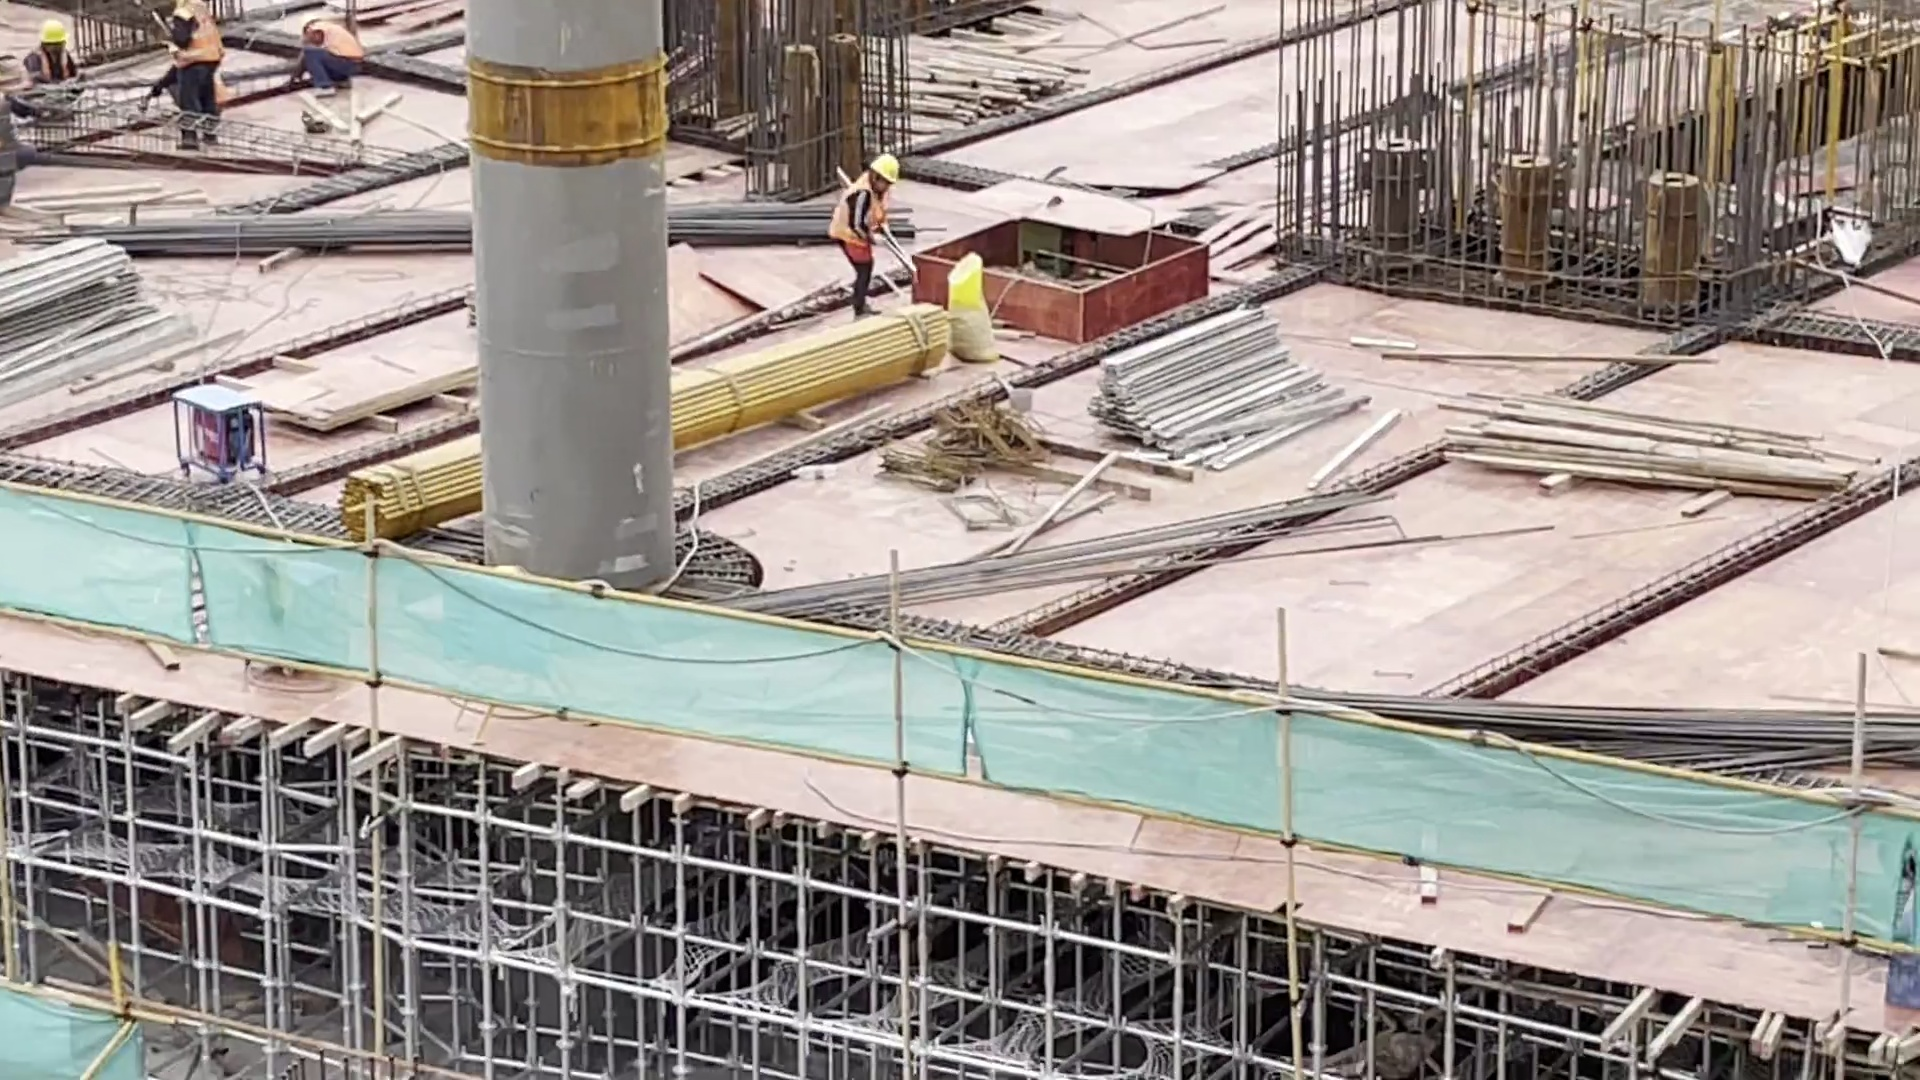helmet: (871, 146, 906, 180), (36, 12, 70, 42), (301, 17, 325, 35)
person: (830, 148, 903, 328), (140, 1, 230, 149), (289, 16, 375, 102), (23, 19, 88, 127)
rebar: (1277, 664, 1920, 790), (80, 204, 929, 260)
vest: (169, 1, 225, 72), (835, 176, 882, 255), (26, 41, 78, 85), (322, 22, 360, 54)
wood: (1086, 304, 1345, 461), (1, 215, 156, 373)
